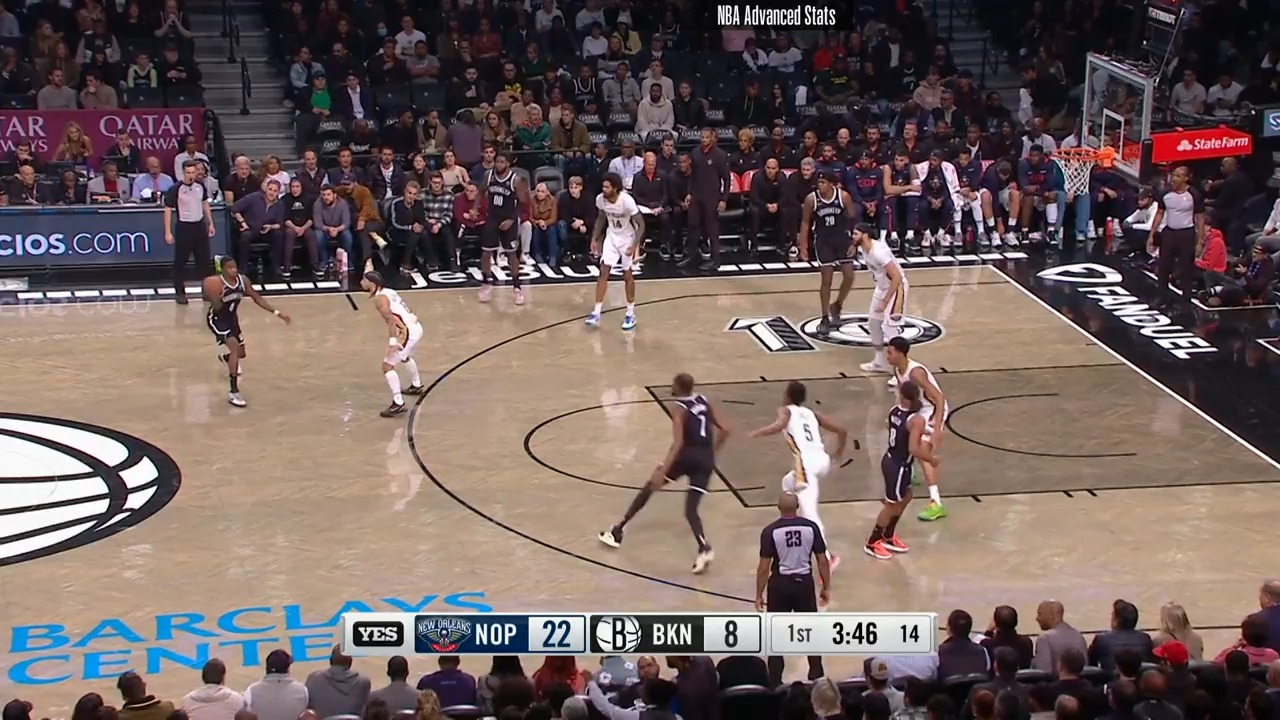net: (1052, 141, 1117, 201)
player: (599, 368, 742, 577), (752, 380, 863, 521), (198, 257, 292, 415), (864, 381, 939, 559), (886, 334, 950, 524), (839, 227, 913, 385), (353, 268, 428, 418), (802, 176, 866, 337), (587, 177, 648, 332)
referee: (756, 486, 839, 615), (1145, 165, 1210, 325), (162, 160, 215, 303)
